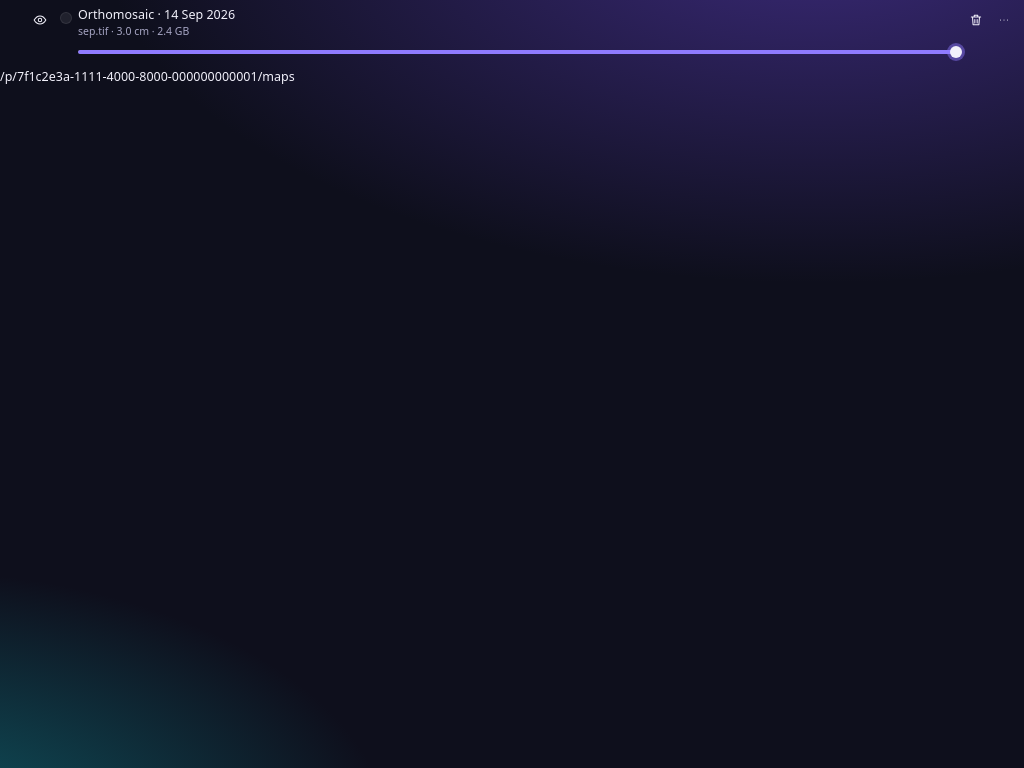
Test: row-menu dialogs (M §5.2) › the row trash opens Are you sure, and Cancel deletes nothing
The width and height of the screenshot is (1024, 768).
Click the button named "Delete Orthomosaic · 14 Sep 2026" at x=976, y=20, box [962,6,990,34]
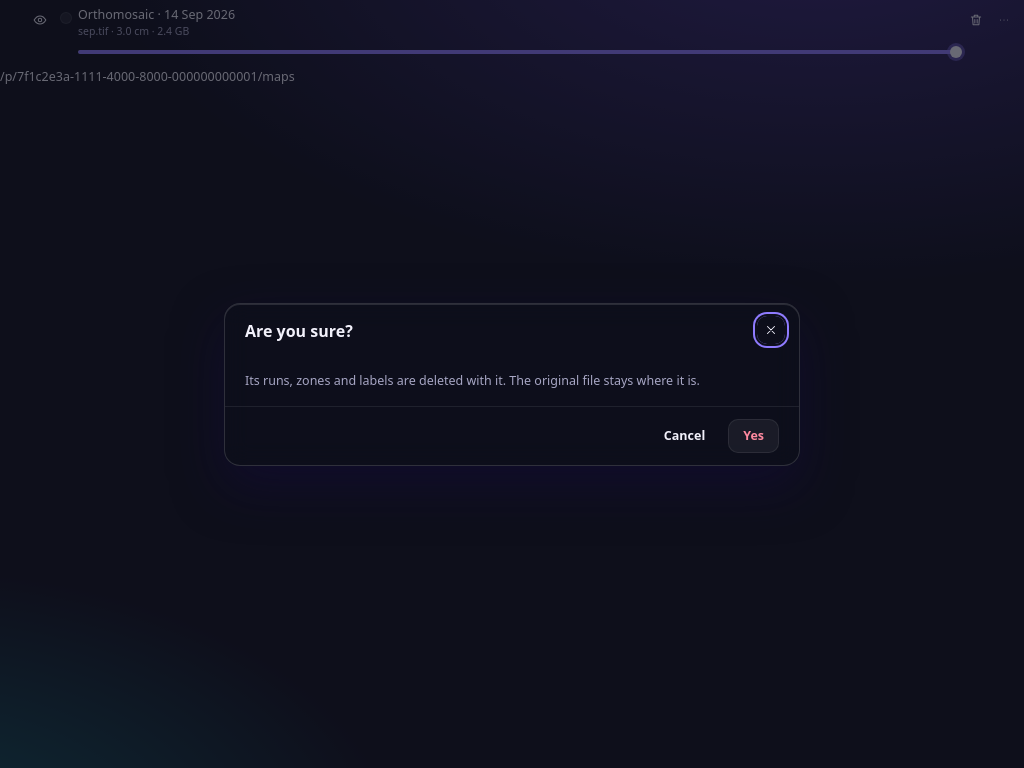
Expected: the dialog "Are you sure?" shows "Its runs, zones and labels are deleted with it. The original file stays where it is.", [245,372,700,388]
Click the button "Cancel" at x=685, y=436, box [649,418,720,452]
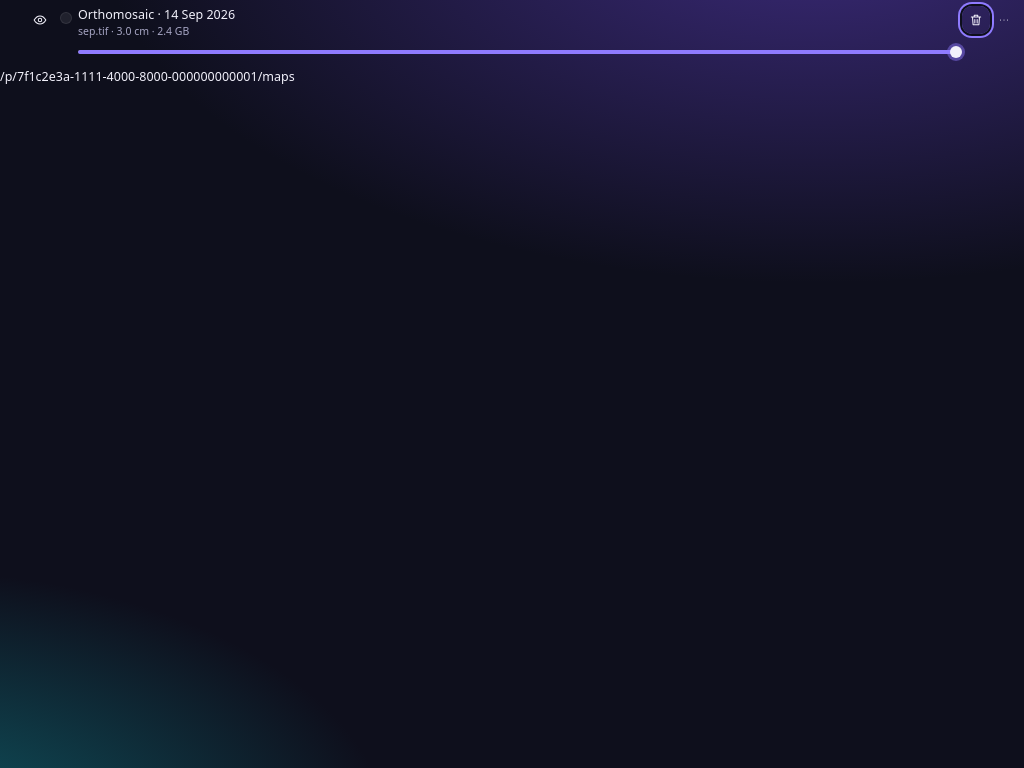
Expected: the dialog is gone
